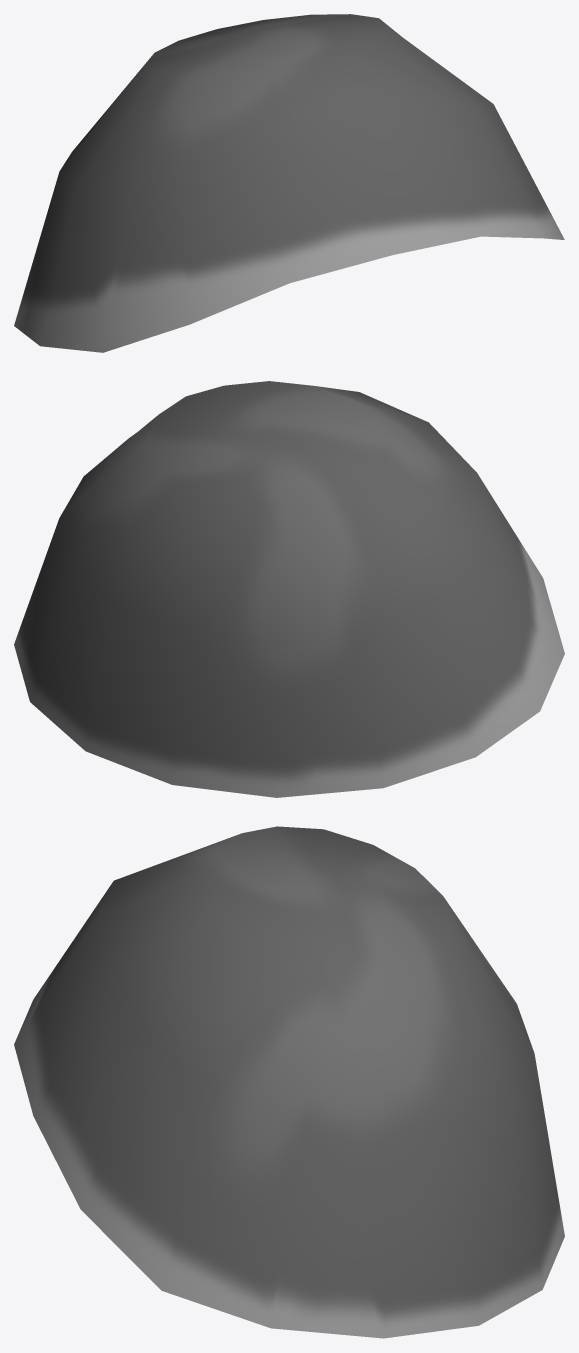
Rendered from greenman_hat.glb.
The picture shows the model from 3 angles, top to bottom: view 1: azimuth 30°, elevation 25°; view 2: azimuth 150°, elevation 25°; view 3: azimuth 270°, elevation 25°; orthographic projection. The views are drawn at different scales.
Parts seen in each view (by area): view 1: 2_hat; view 2: 2_hat; view 3: 2_hat.
Part boxes in pixels (x1,y1,x2,y2): 2_hat: (14,14,564,352); 2_hat: (14,381,564,797); 2_hat: (14,826,564,1338).
Bounding box in the file's own units: 1.8 × 1.01 × 1.38.
1 material, 1 textured.
